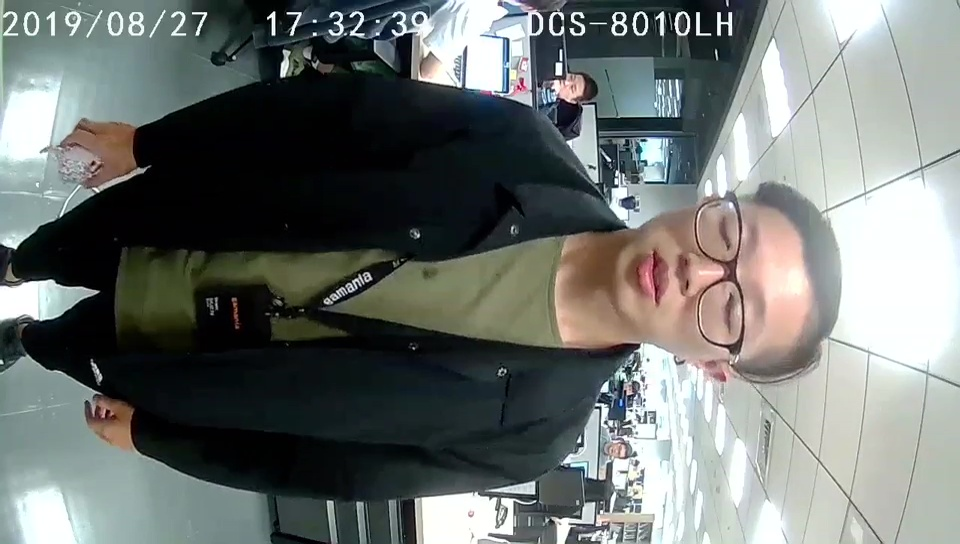pig: (57, 143, 102, 181)
